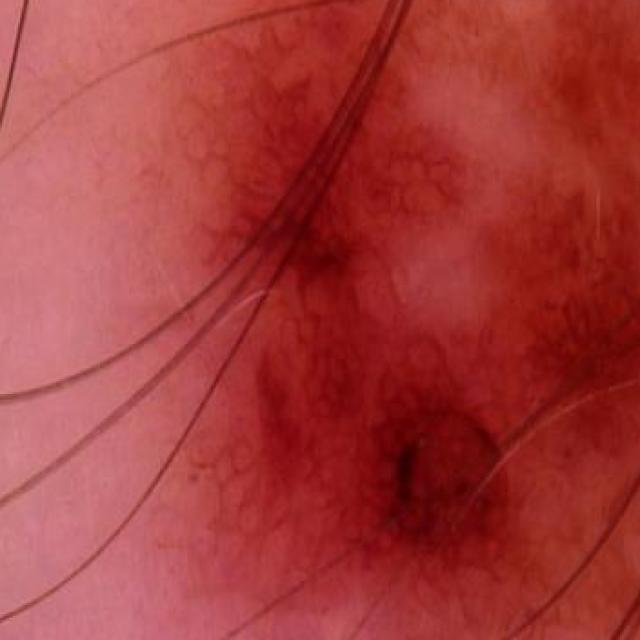NV: (223, 0, 640, 640)
